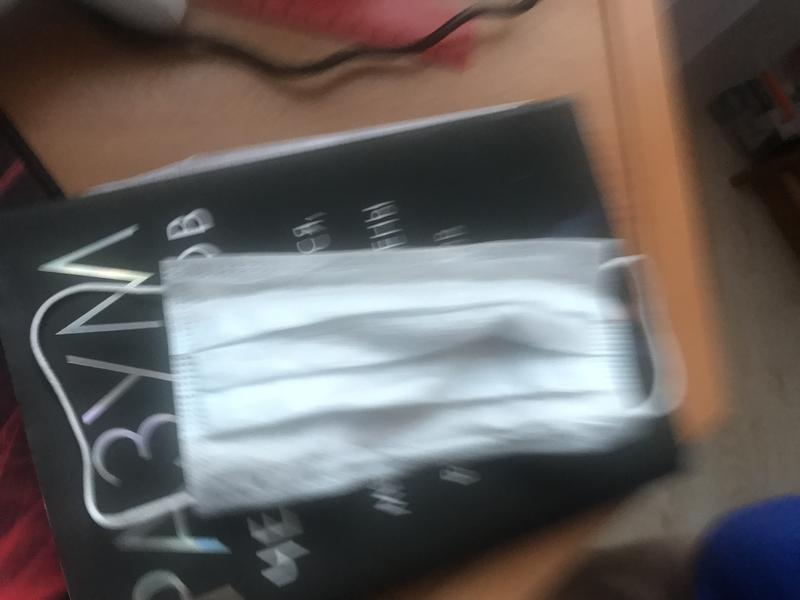medical_mask: (29, 236, 637, 524)
